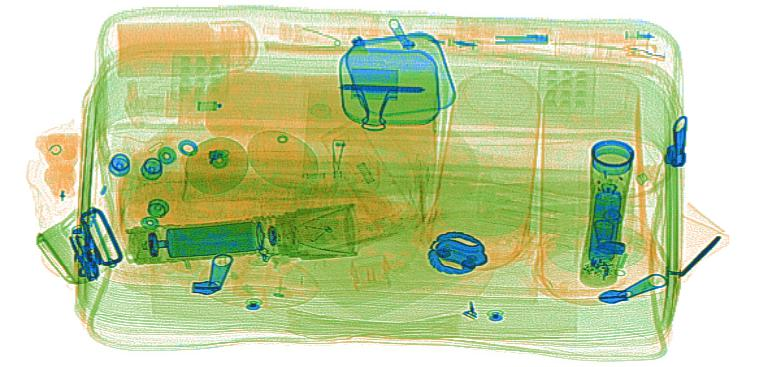battery: (164, 217, 264, 258), (589, 188, 623, 262)
plasticBottleWithaNozzle: (123, 69, 439, 160), (320, 117, 416, 232)
